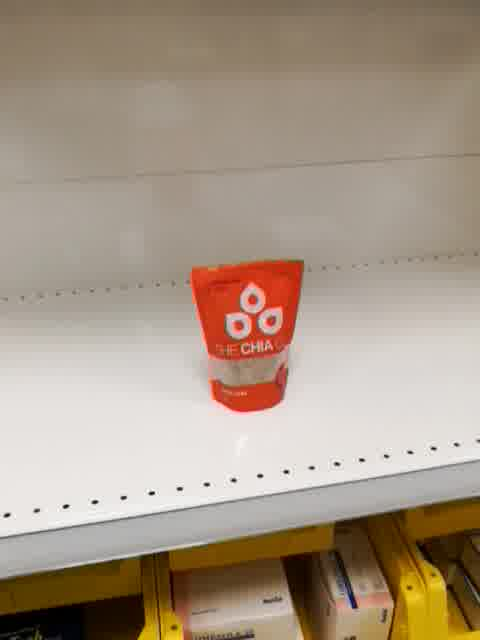whitechia: (190, 258, 304, 413)
